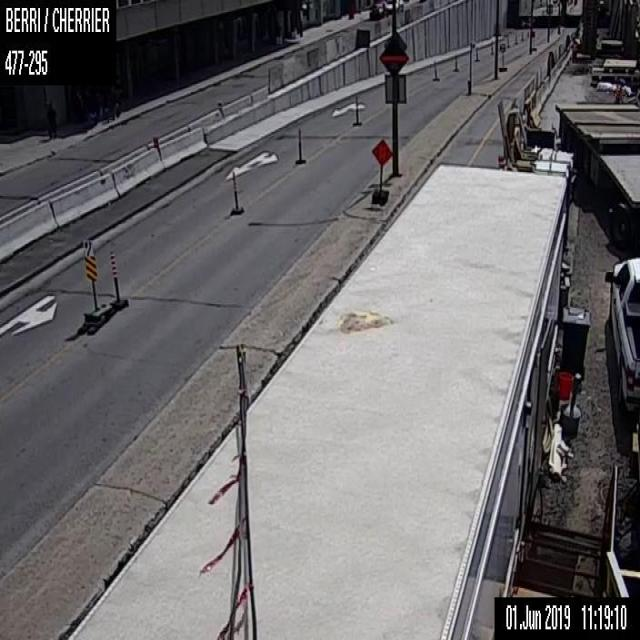construction: (370, 137, 392, 205), (108, 246, 128, 310), (229, 170, 243, 214), (295, 126, 305, 162), (352, 97, 362, 125), (432, 60, 439, 80), (452, 54, 458, 70), (474, 47, 479, 61), (505, 34, 510, 47), (513, 32, 518, 44), (519, 30, 524, 41), (489, 44, 493, 54)
vehicle: (603, 257, 639, 407), (375, 0, 403, 13)
